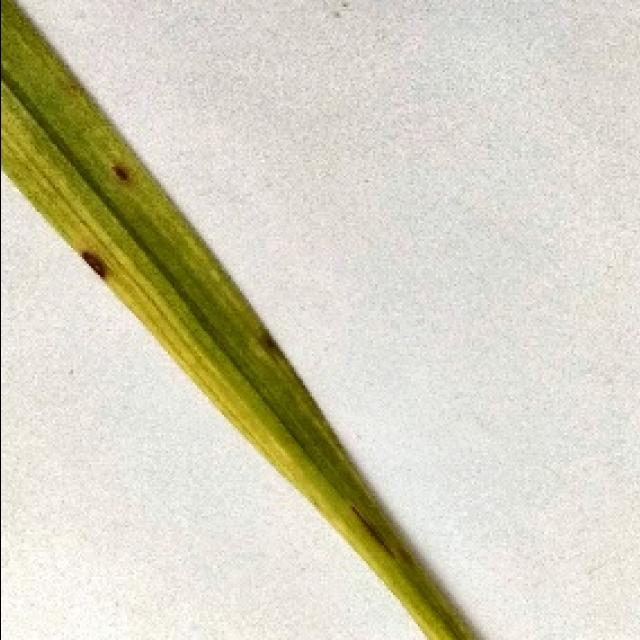Leaf_Blast: (329, 496, 410, 580)
